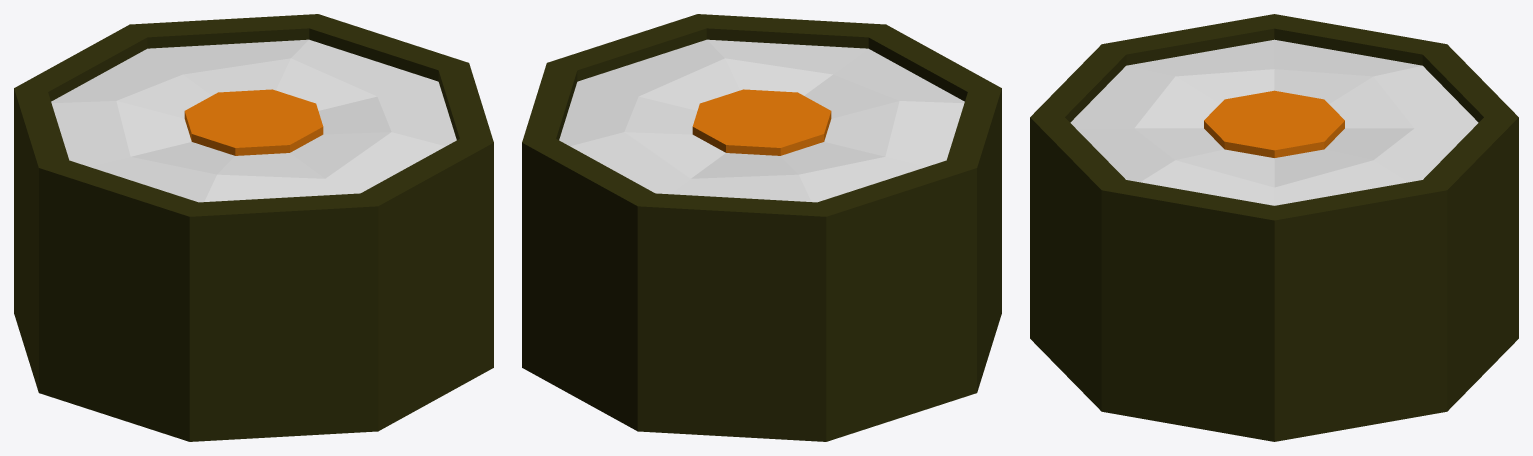
The model's file is m_coloniusLory_Maki_Salmon_001.fbx.
3 renders of one model, left to right at view 1: azimuth 30°, elevation 25°; view 2: azimuth 150°, elevation 25°; view 3: azimuth 270°, elevation 25°, orthographic.
Parts seen in each view (by area): view 1: m_coloniusLory_Maki_Salmon_001; view 2: m_coloniusLory_Maki_Salmon_001; view 3: m_coloniusLory_Maki_Salmon_001.
Boxes of the visible parts, x1,y1,x2,y2 form: m_coloniusLory_Maki_Salmon_001: (14, 14, 493, 441); m_coloniusLory_Maki_Salmon_001: (522, 14, 1001, 441); m_coloniusLory_Maki_Salmon_001: (1030, 14, 1518, 441).
Bounding box in the file's own units: 3.94 × 1.97 × 3.94.
